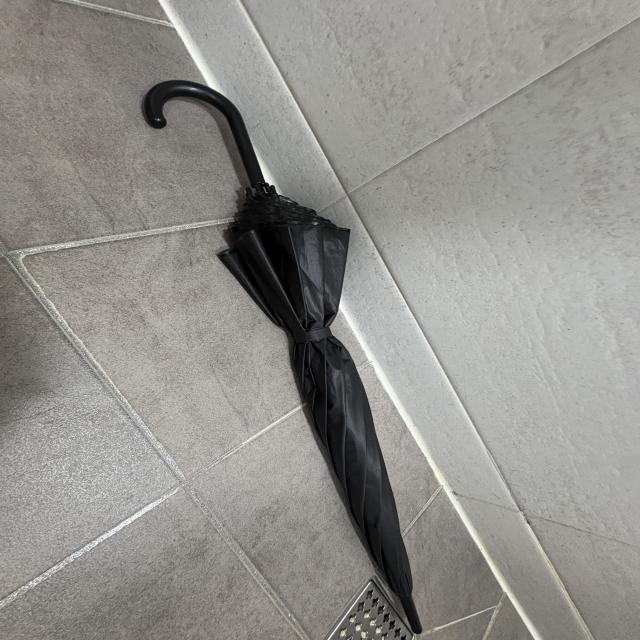umbrella: (142, 76, 422, 635)
